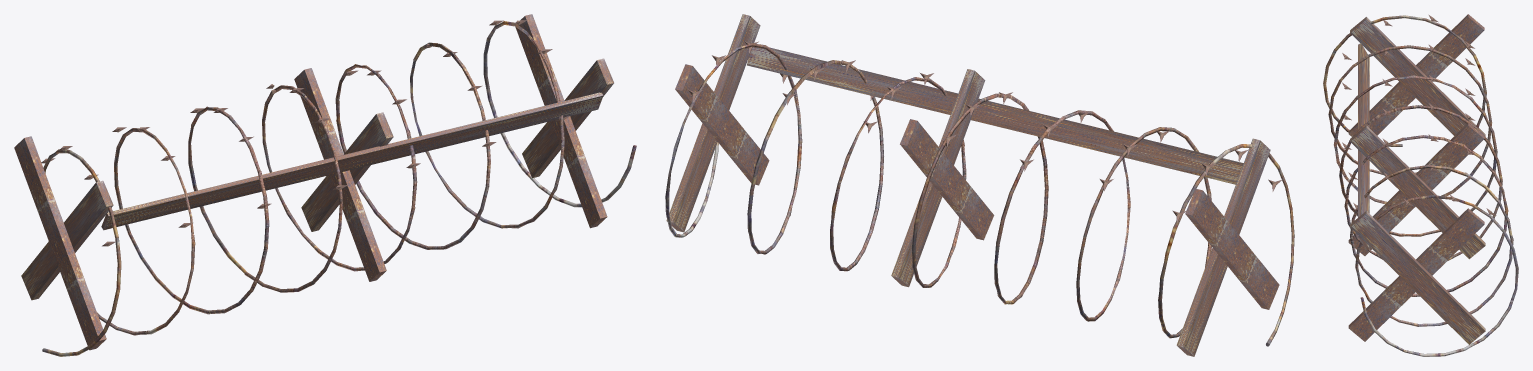
File: wire_fortif.FBX
3 views of the same model, side by side, from view 1: azimuth 30°, elevation 25°; view 2: azimuth 150°, elevation 25°; view 3: azimuth 270°, elevation 25° (orthographic). The views are drawn at different scales.
Visible parts, largest first — view 1: Loft001, Box005, Box002, Box009, Box006, Box001, Box007, Box008; view 2: Loft001, Box005, Box001, Box007, Box002, Box009, Box008, Box006; view 3: Loft001, Box007, Box006, Box008, Box001, Box002, Box009, Box005.
Part boxes in pixels (bbox=[...]): Loft001: bbox=[42, 21, 636, 356]; Box005: bbox=[101, 92, 603, 230]; Box002: bbox=[14, 136, 106, 350]; Box009: bbox=[294, 68, 386, 281]; Box006: bbox=[515, 14, 607, 228]; Box001: bbox=[21, 180, 113, 300]; Box007: bbox=[522, 58, 613, 178]; Box008: bbox=[301, 112, 393, 231]; Loft001: bbox=[665, 43, 1294, 346]; Box005: bbox=[747, 47, 1243, 184]; Box001: bbox=[1176, 138, 1270, 356]; Box007: bbox=[666, 14, 760, 232]; Box002: bbox=[1185, 189, 1279, 309]; Box009: bbox=[900, 119, 994, 240]; Box008: bbox=[891, 69, 985, 287]; Box006: bbox=[675, 64, 769, 185]; Loft001: bbox=[1323, 15, 1518, 356]; Box007: bbox=[1350, 211, 1485, 344]; Box006: bbox=[1348, 208, 1484, 341]; Box008: bbox=[1350, 125, 1485, 259]; Box001: bbox=[1350, 17, 1485, 136]; Box002: bbox=[1348, 14, 1484, 136]; Box009: bbox=[1348, 123, 1484, 255]; Box005: bbox=[1358, 43, 1369, 250].
Bounding box in the file's own units: 15.97 × 4.97 × 5.99.
1 material, 1 textured.
